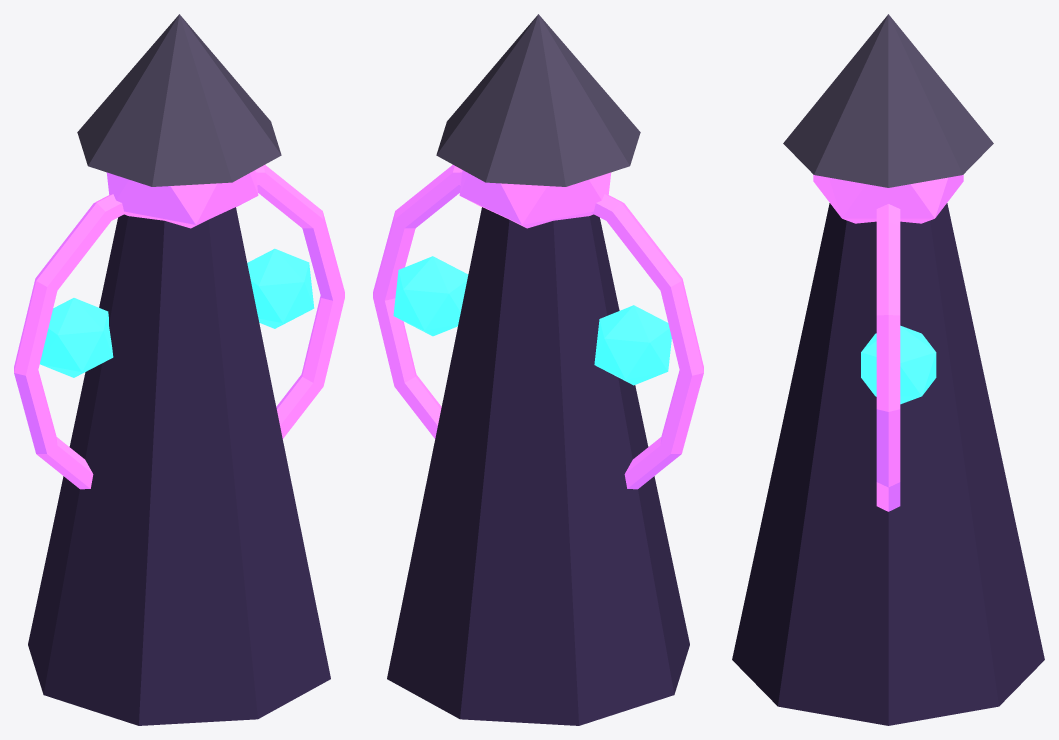
File: possessed.glb
3 renders of one model, left to right at view 1: azimuth 30°, elevation 25°; view 2: azimuth 150°, elevation 25°; view 3: azimuth 270°, elevation 25°, orthographic.
Parts seen in each view (by area): view 1: possessed-cloak, possessed-hood, possessed-aura, possessed-mask, possessed-crystal-0, possessed-crystal-1; view 2: possessed-cloak, possessed-hood, possessed-aura, possessed-mask, possessed-crystal-0, possessed-crystal-1; view 3: possessed-cloak, possessed-hood, possessed-aura, possessed-mask, possessed-crystal-1.
Part boxes in pixels (x1,y1,x2,y2): possessed-cloak: [28, 207, 330, 725]; possessed-hood: [77, 14, 281, 186]; possessed-aura: [14, 165, 344, 489]; possessed-mask: [106, 170, 258, 228]; possessed-crystal-0: [40, 298, 113, 377]; possessed-crystal-1: [247, 248, 314, 328]; possessed-cloak: [387, 207, 689, 725]; possessed-hood: [436, 14, 640, 186]; possessed-aura: [373, 165, 703, 489]; possessed-mask: [459, 170, 611, 228]; possessed-crystal-0: [594, 305, 671, 385]; possessed-crystal-1: [393, 256, 468, 336]; possessed-cloak: [732, 203, 1044, 725]; possessed-hood: [783, 14, 993, 187]; possessed-aura: [876, 204, 900, 511]; possessed-mask: [813, 175, 963, 223]; possessed-crystal-1: [861, 325, 936, 404].
Bounding box in the file's own units: 1.12 × 2.09 × 0.92.
